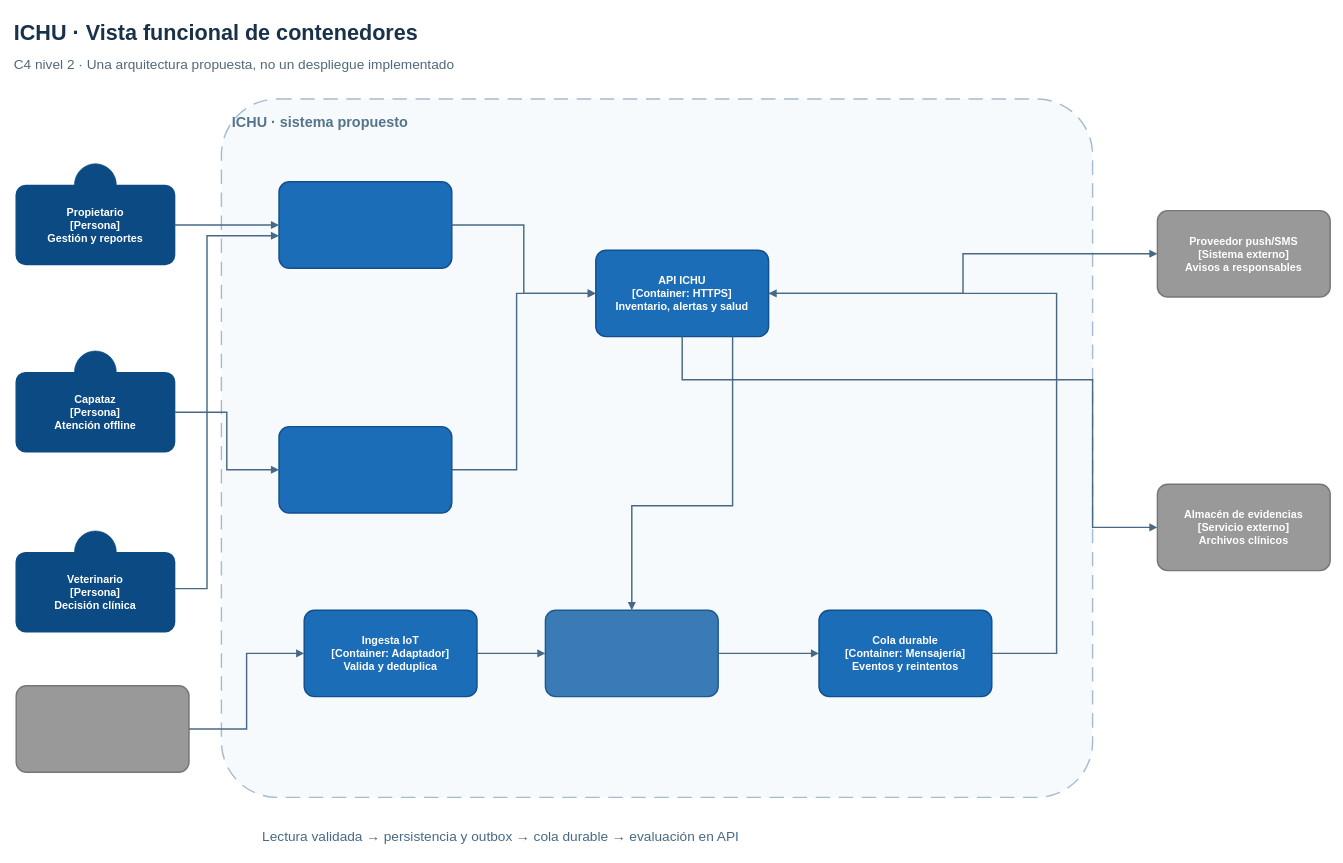
Image size: 1343x863. Some labels were removed from this diagram. The shapes that lost their labels are listed below. From the top down, each one's centre as x and y in pixels, then its label:
the point at 365,225: Aplicación web [Container: Navegador] Dashboard y mapas
the point at 365,469: Aplicación móvil [Container: Android/iOS] Cola local offline
the point at 631,653: Base relacional [Container: SQL] Lecturas + outbox
the point at 102,729: Dispositivo / pasarela [Sistema externo] LoRaWAN o celular
